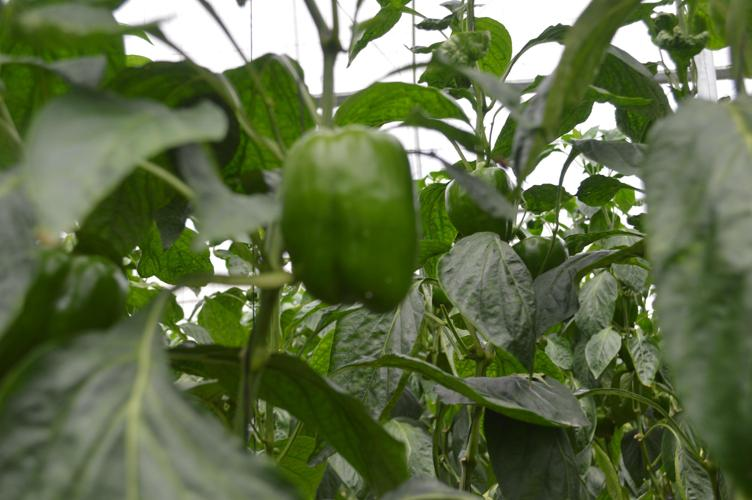BellPepper: (285, 125, 420, 310), (25, 252, 130, 326), (441, 165, 509, 237), (510, 234, 569, 273)
